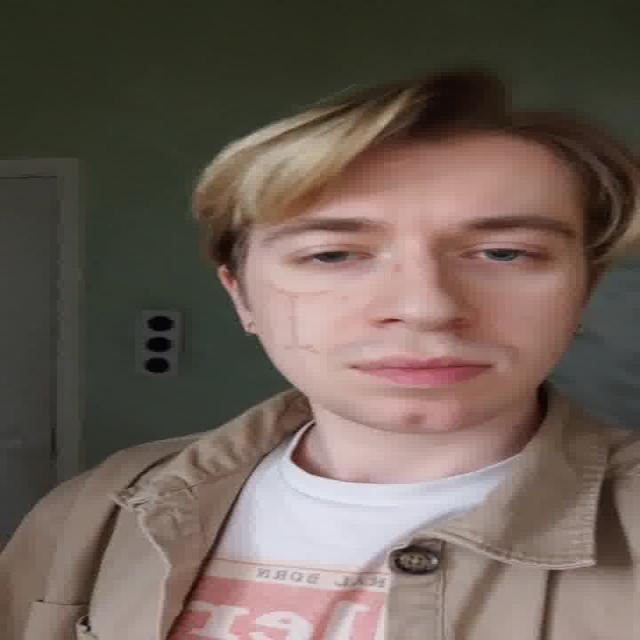earlobe: (216, 264, 259, 334)
